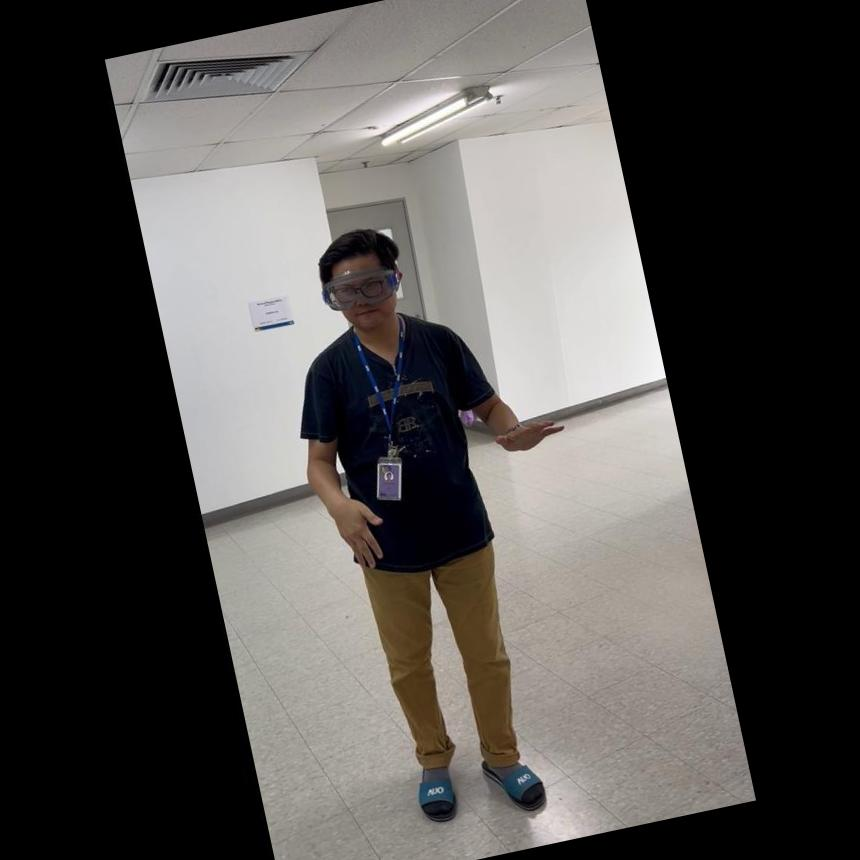No-gloves: (322, 486, 391, 576), (490, 405, 566, 458)
